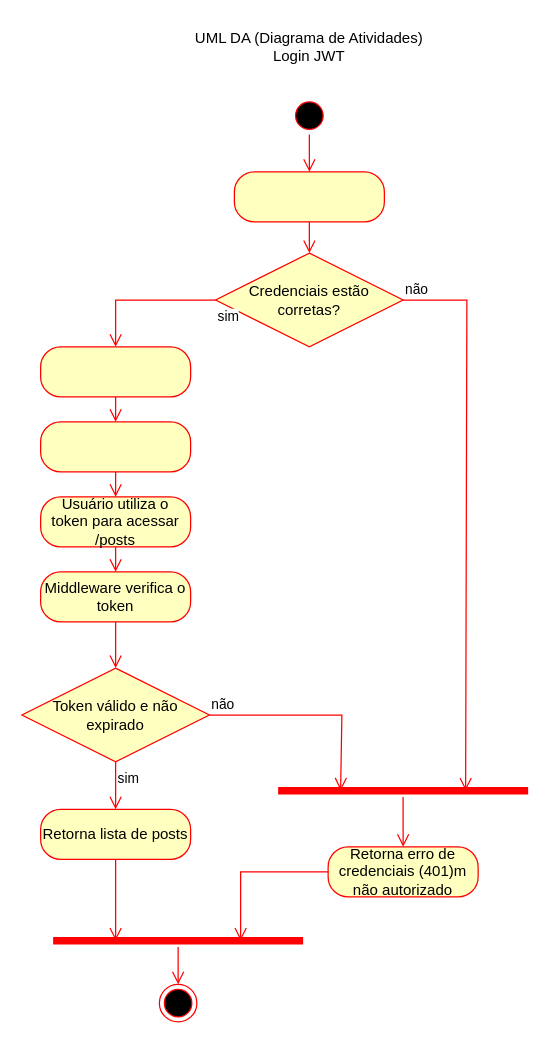
The diagram is 554 pixels wide and 1044 high, and some of its shapes have lost their labels. The shapes that lost their labels are listed below. From the top down, each one's box as (x1, y1, x2, y2) in pixels, then its label:
(233, 171, 384, 222): Usuário envia e-mail e senha para a API
(39, 346, 191, 397): Gerar token JWT
(39, 421, 191, 472): Envia o token para o usuário
